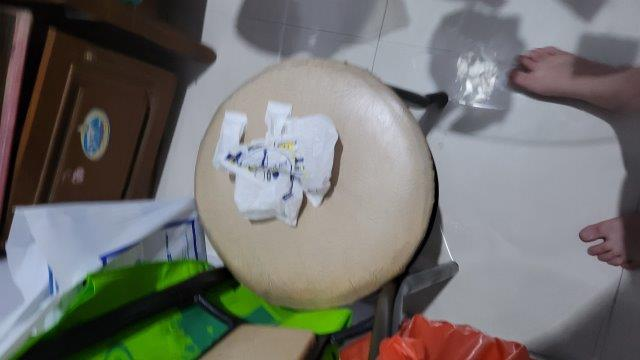plastik: (212, 101, 339, 228)
